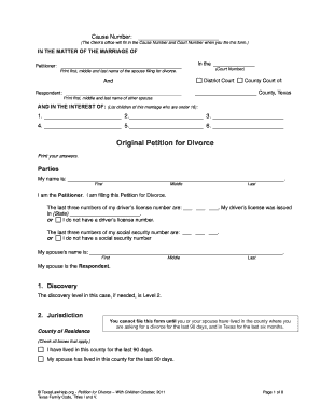checkbox: (54, 216, 63, 224), (54, 234, 63, 242), (195, 77, 203, 84), (236, 77, 244, 84), (37, 346, 45, 353), (37, 356, 45, 363)
textline: (67, 175, 286, 183), (88, 249, 285, 256), (59, 61, 183, 70), (65, 89, 183, 97), (137, 33, 221, 41), (43, 113, 123, 121), (43, 122, 123, 130), (129, 113, 205, 121), (211, 113, 287, 121), (70, 210, 140, 218), (211, 123, 287, 130), (128, 123, 204, 130), (193, 89, 258, 97), (212, 60, 256, 68), (181, 227, 193, 236), (194, 227, 206, 236), (207, 227, 219, 236), (182, 204, 194, 212), (195, 204, 207, 212), (208, 204, 220, 212)
